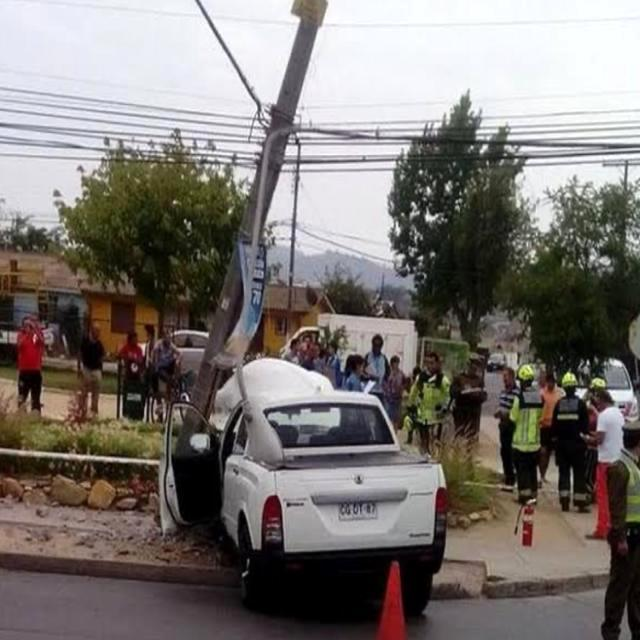Broken Pole: (172, 0, 330, 454)
